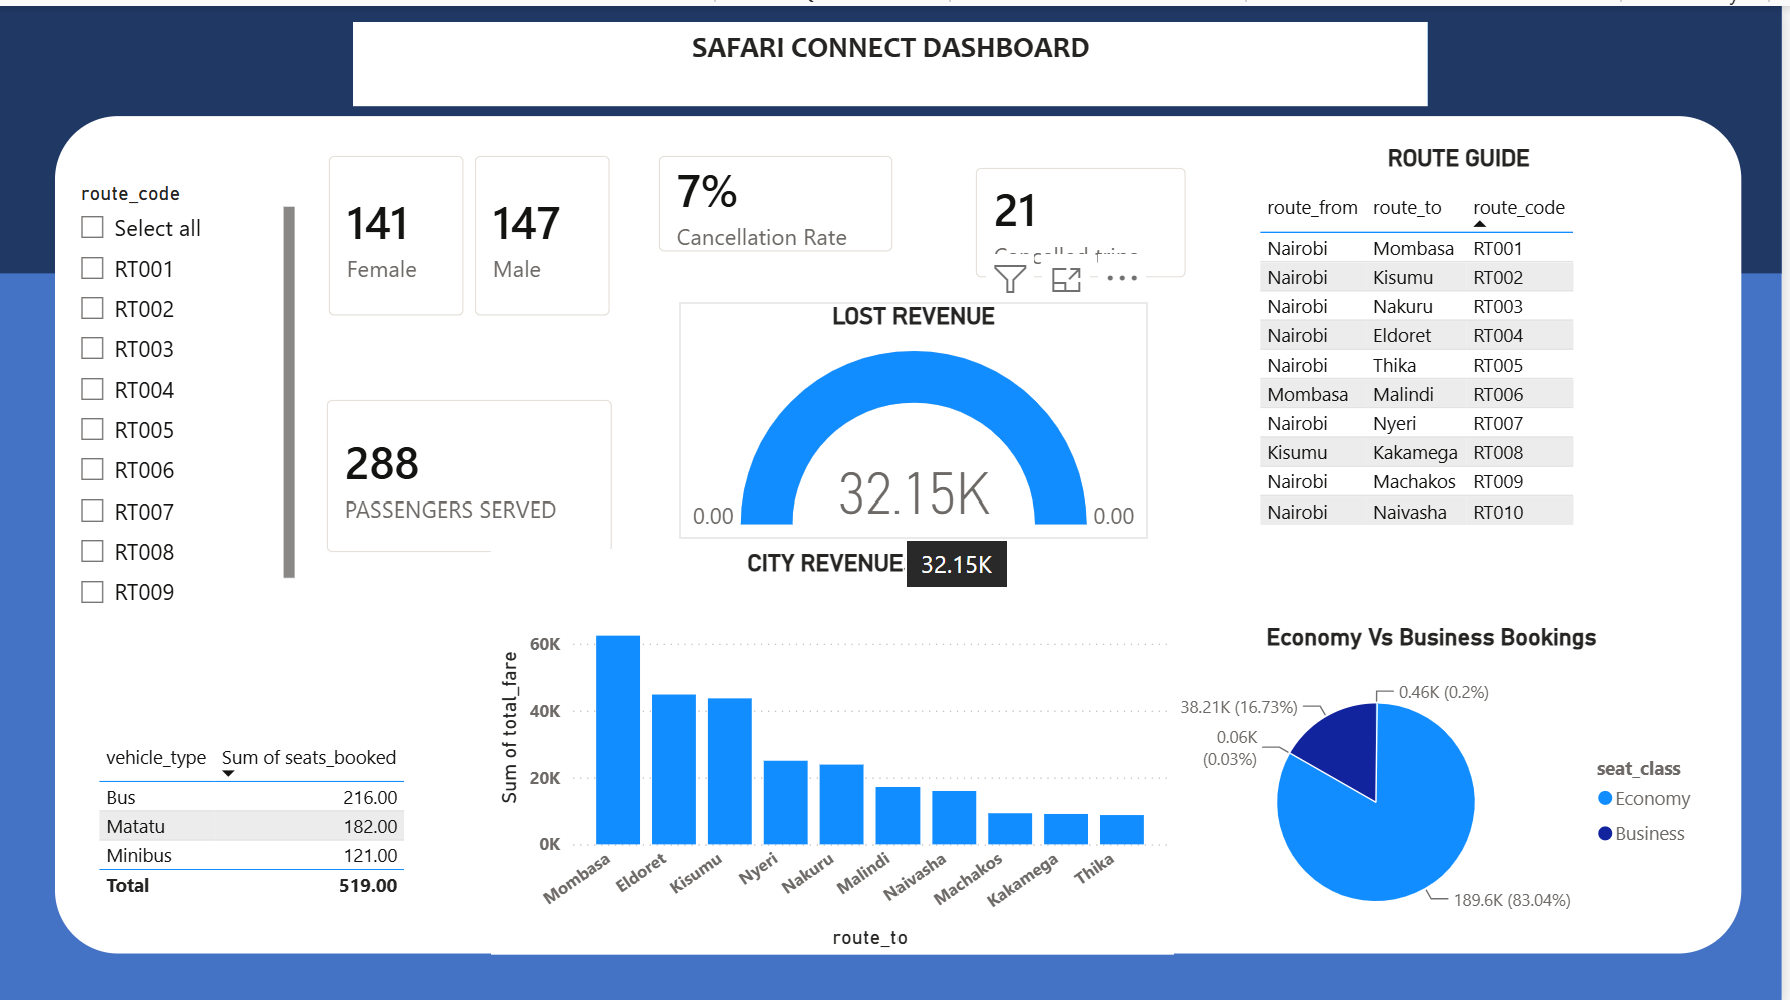

Layout of this report page (visuals, bound fields, positions):
{"tool":"powerbi","page":{"name":"ROUTE ANALYSIS","canvas":[1280,720],"ordinal":1},"visuals":[{"type":"pieChart","title":"Economy Vs Business Bookings","fields":{"Category":["safari_connect bookings_staging.seat_class"],"Y":["Sum(safari_connect bookings_staging.seats_booked)","Sum(safari_connect v_clean_trips.total_fare)"]},"box":[824.7,442.6,407.6,227.7],"z":0},{"type":"tableEx","fields":{"Values":["safari_connect bookings_staging.vehicle_type","Sum(safari_connect bookings_staging.seats_booked)"]},"box":[66.1,523.3,245.7,147.1],"z":1000},{"type":"cardVisual","fields":{"Data":["safari_connect bookings_staging.Cancellation Rate"]},"box":[455.2,130.3,202.3,103.1],"z":2000},{"type":"cardVisual","fields":{"Data":["safari_connect bookings_staging.Cancelled trips"]},"box":[690.6,120.6,185,113.7],"z":3000},{"type":"gauge","title":"LOST REVENUE","fields":{"Y":["safari_connect v_cancellation_analysis.Lost Revenue"]},"box":[488.3,241.2,336.5,169.2],"z":4000},{"type":"slicer","fields":{"Values":["safari_connect bookings_staging.route_code"]},"box":[45.5,121.3,171.4,320],"z":5000},{"type":"tableEx","title":"ROUTE GUIDE","fields":{"Values":["safari_connect bookings_staging.route_from","safari_connect bookings_staging.route_to","safari_connect bookings_staging.route_code"]},"box":[899.3,98.6,297.3,283.6],"z":6000},{"type":"cardVisual","fields":{"Data":["safari_connect bookings_staging.Totalpassengers"]},"box":[217.9,266.5,239.3,144],"z":8000},{"type":"clusteredColumnChart","title":"CITY REVENUES","fields":{"Category":["safari_connect bookings_staging.route_to"],"Y":["Sum(safari_connect bookings_staging.total_fare)"]},"box":[352.1,441.6,490.2,280.1],"z":8001},{"type":"cardVisual","fields":{"Data":["safari_connect bookings_staging.Female","safari_connect bookings_staging.Male"]},"box":[217.9,116.7,237.3,149.8],"z":8002},{"type":"shape","box":[268.7,11.5,757.4,60.4],"z":8003},{"type":"textbox","box":[254.4,11.5,771.7,60.4],"z":8004}]}

Visuals, with their boxes in screenshot pixels (x1, y1, x2, y2), scaled from the page's 1280x720 canvas onto the 1790x1000 screenshot:
"Economy Vs Business Bookings" pieChart: [1153,615,1723,931]
tableEx - safari_connect bookings_staging.vehicle_type x Sum(safari_connect bookings_staging.seats_booked): [92,727,436,931]
cardVisual - safari_connect bookings_staging.Cancellation Rate: [637,181,919,324]
cardVisual - safari_connect bookings_staging.Cancelled trips: [966,168,1224,325]
"LOST REVENUE" gauge: [683,335,1153,570]
slicer - safari_connect bookings_staging.route_code: [64,168,303,613]
"ROUTE GUIDE" tableEx: [1258,137,1673,531]
cardVisual - safari_connect bookings_staging.Totalpassengers: [305,370,639,570]
"CITY REVENUES" clusteredColumnChart: [492,613,1178,999]
cardVisual - safari_connect bookings_staging.Female x safari_connect bookings_staging.Male: [305,162,637,370]
shape: [376,16,1435,100]
textbox: [356,16,1435,100]
